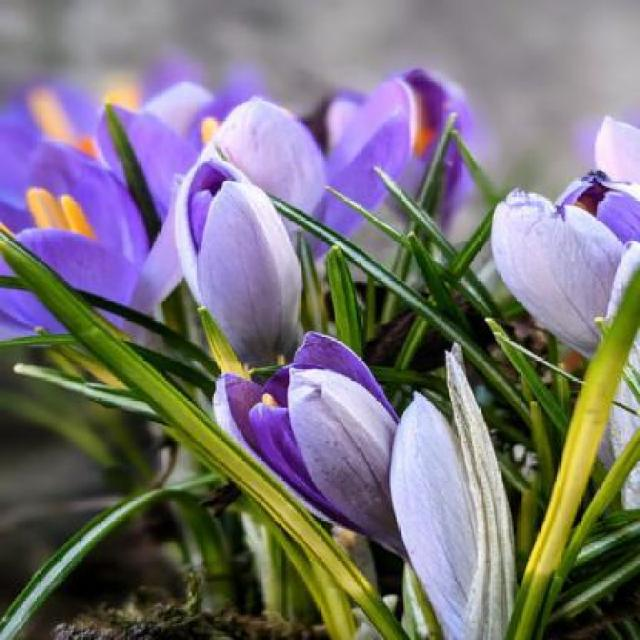saffron open: (214, 332, 402, 552), (16, 141, 181, 312), (176, 145, 300, 364), (492, 191, 624, 355), (0, 290, 62, 338)
